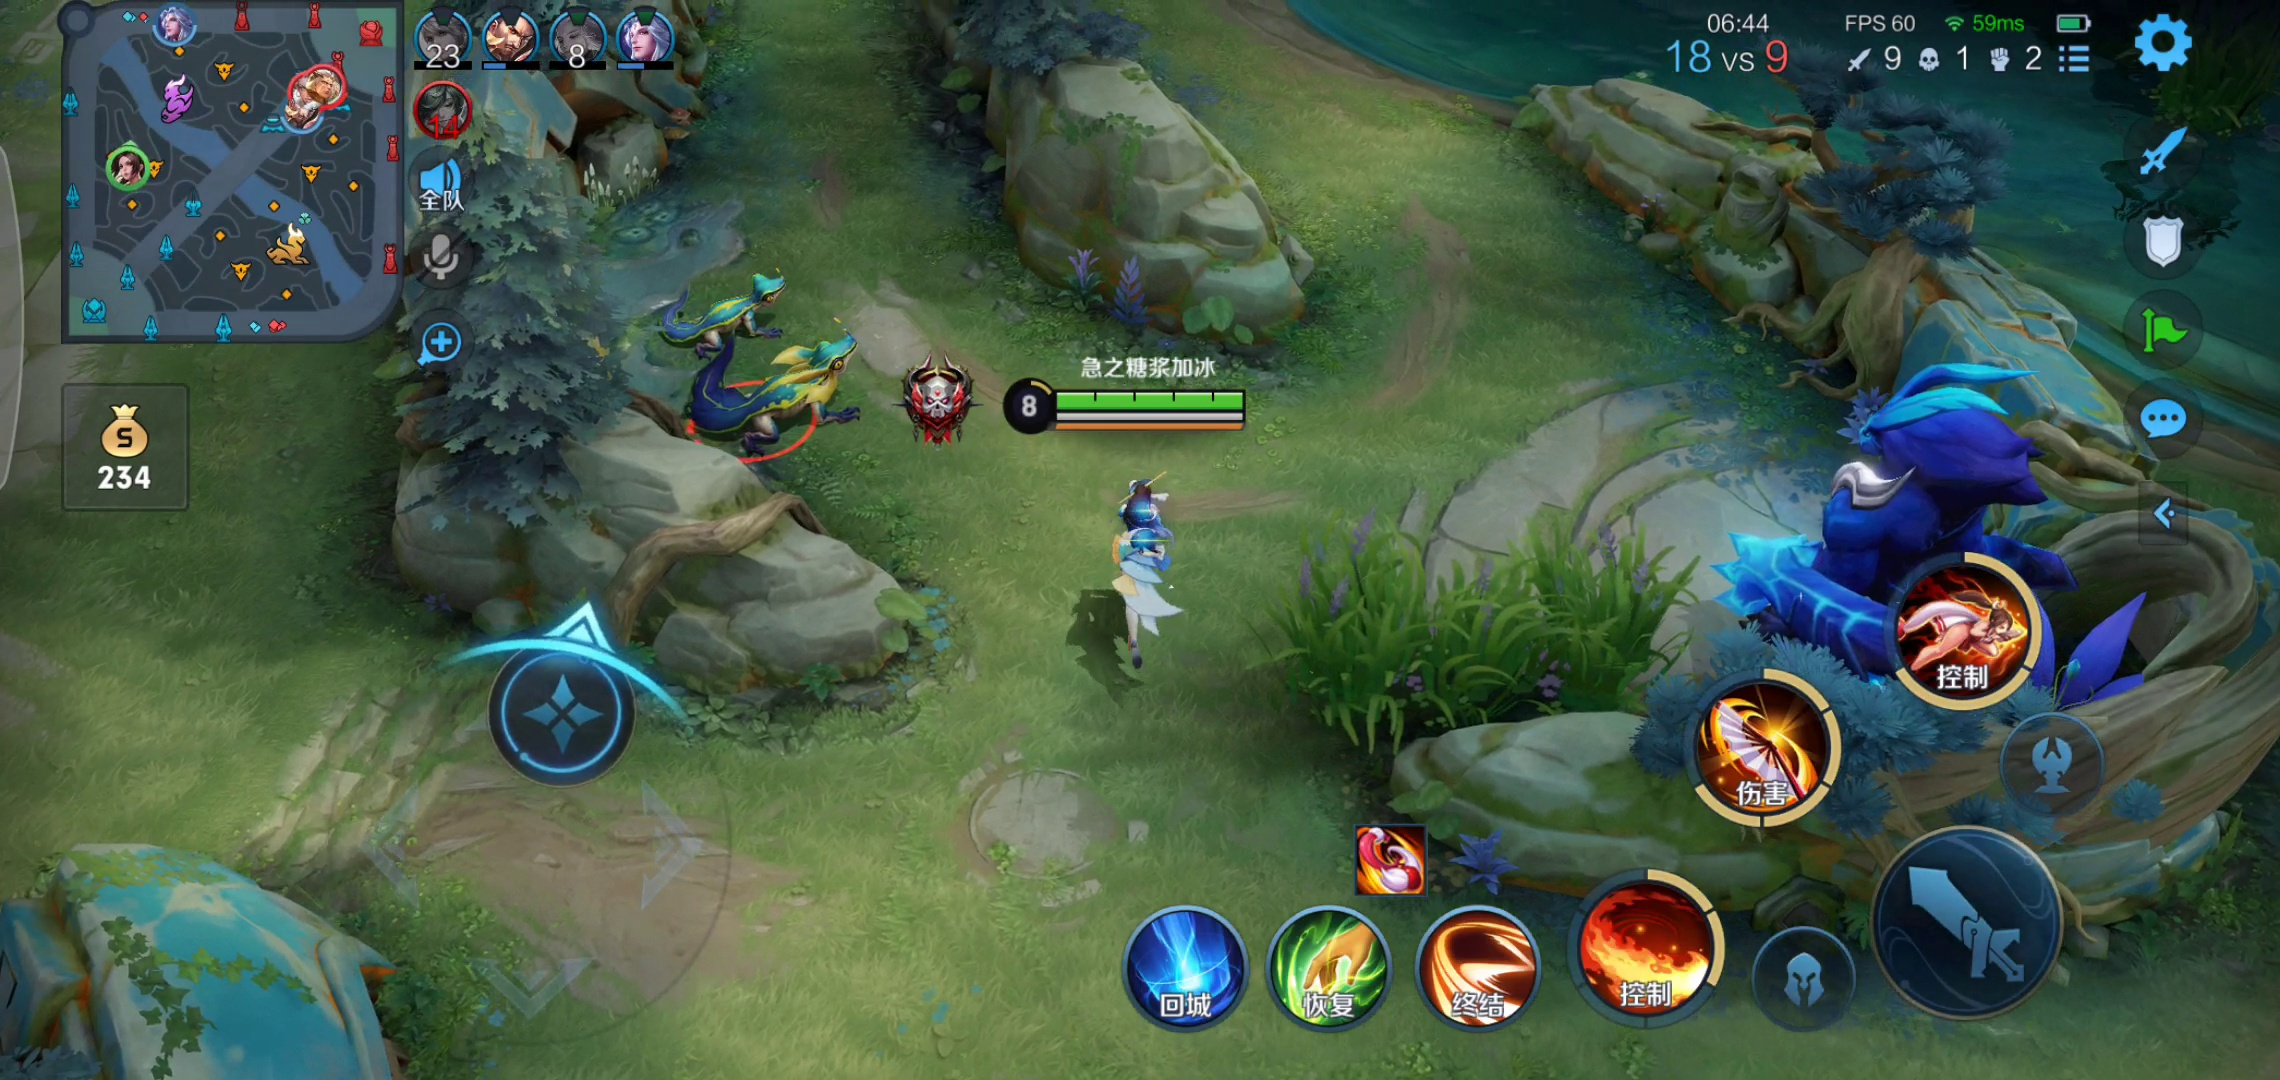buff: (1714, 347, 2123, 702)
grass: (1272, 483, 1674, 750)
hero: (1076, 459, 1208, 685)
wild_monster: (640, 259, 868, 484)
